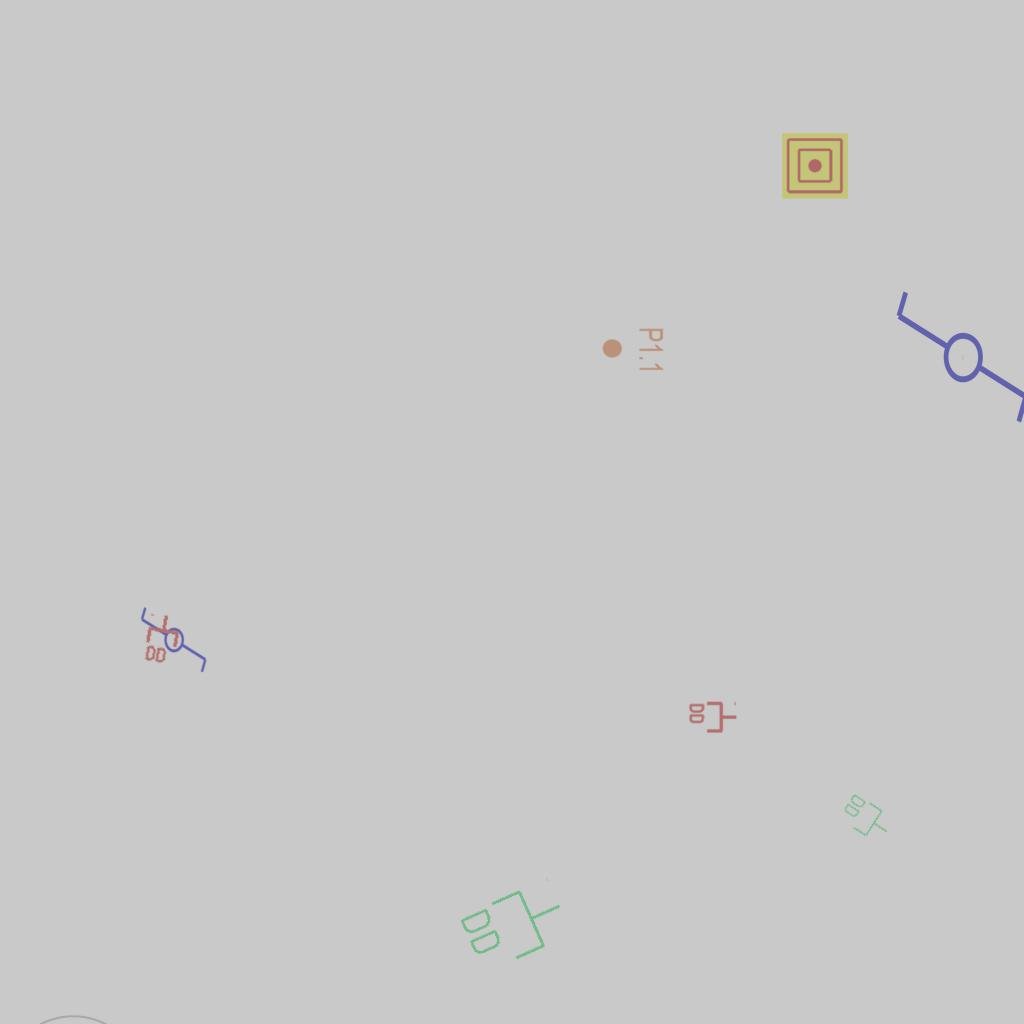Datenanschluss_zweifach: (453, 873, 576, 978), (835, 789, 898, 847), (141, 611, 185, 668), (687, 701, 738, 735)
Downlight_LED_Einbauleuchten_Flur: (601, 327, 665, 373)
NAM-Nichtautomatischer_Melder: (782, 133, 848, 199)
Wechselschalter: (889, 287, 1024, 444), (137, 605, 209, 683)
